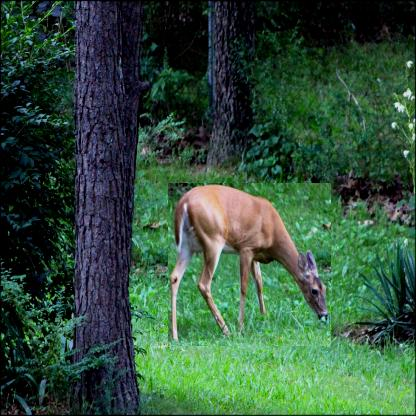Deer: (168, 183, 331, 346)
